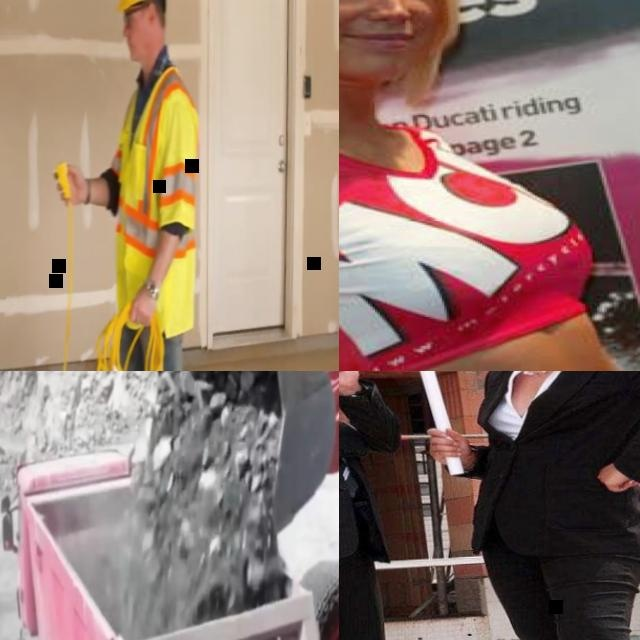NO-Mask: (339, 0, 433, 78), (128, 17, 153, 61)
NO-Safety Vest: (339, 108, 640, 371), (480, 371, 640, 531)
Person: (339, 0, 640, 371), (42, 0, 224, 371), (421, 371, 640, 640), (339, 371, 474, 640)
Safety Vest: (110, 65, 204, 274)
machinery: (0, 425, 339, 640), (119, 371, 339, 640)
